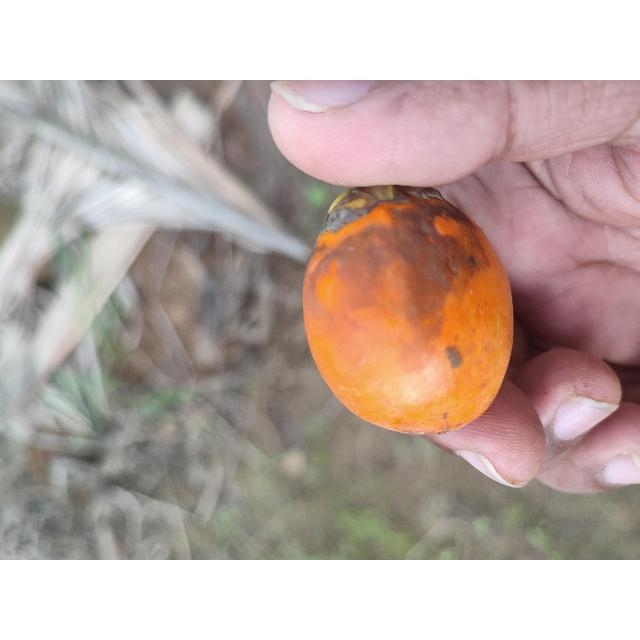good: (301, 186, 516, 439)
